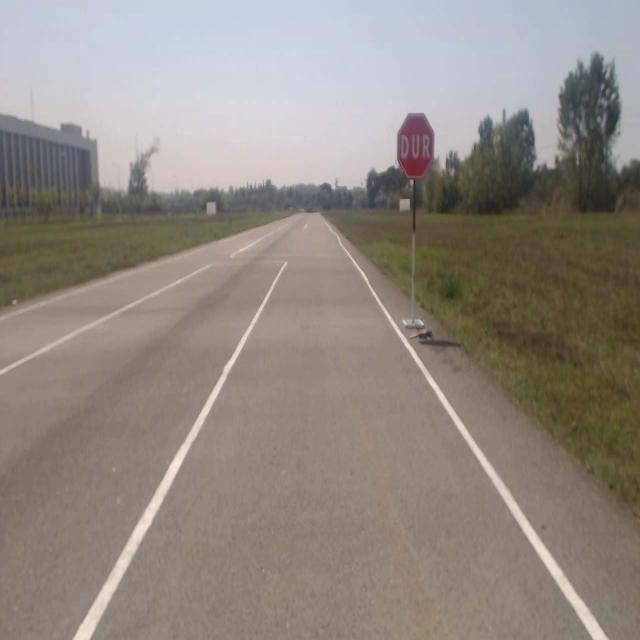dur: (397, 113, 435, 179)
